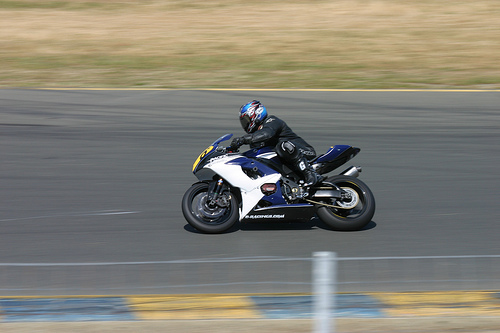helmet: (234, 101, 264, 127)
